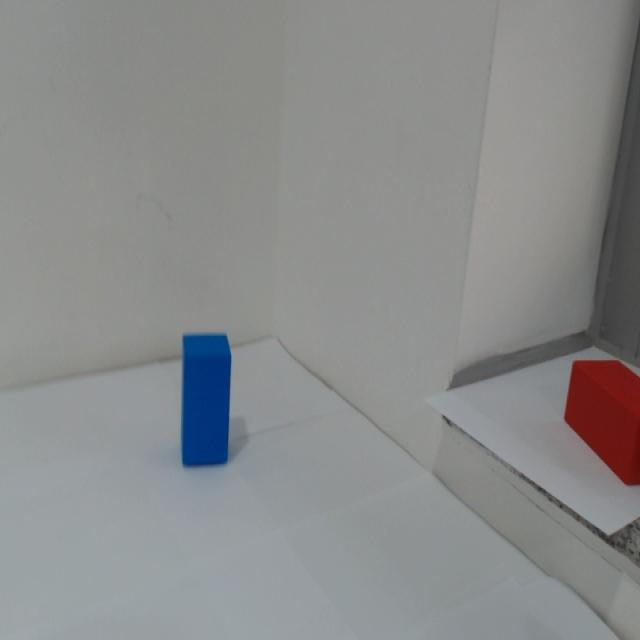cube: (159, 317, 249, 482)
